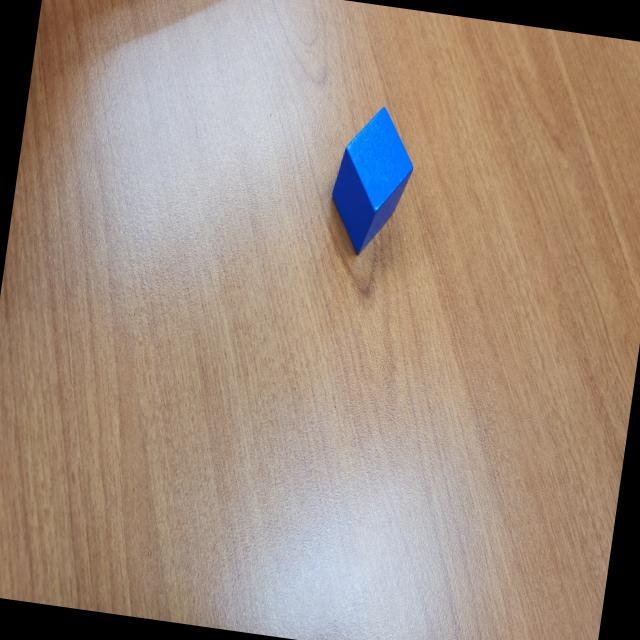blue: (324, 101, 422, 262)
